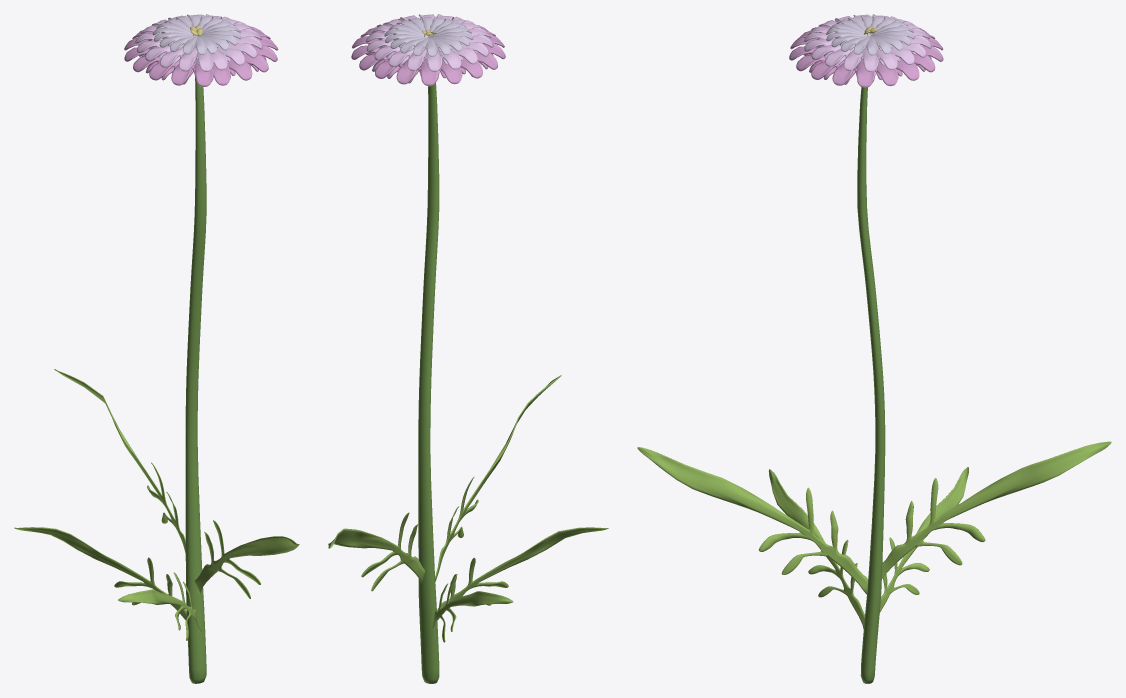
The model's file is SCABIOSA FINAL.fbx.
3 views of the same model, side by side, from view 1: azimuth 30°, elevation 25°; view 2: azimuth 150°, elevation 25°; view 3: azimuth 270°, elevation 25° (orthographic).
Visible parts, largest first — view 1: Stem, Flower 2, Flower 3, Flower 4, Leaf 1, Leaf 3, Leaf 2, Leaf 4; view 2: Stem, Flower 3, Flower 2, Flower 4, Leaf 2, Leaf 4, Leaf 1, Leaf 3; view 3: Stem, Leaf 1, Leaf 2, Flower 2, Flower 3, Flower 4, Leaf 4, Leaf 3.
Boxes of the visible parts, box(x1,y1,x2,y2) form: Stem: box(185, 77, 206, 683); Flower 2: box(124, 25, 278, 86); Flower 3: box(135, 14, 262, 71); Flower 4: box(152, 14, 241, 54); Leaf 1: box(194, 520, 299, 598); Leaf 3: box(14, 527, 186, 620); Leaf 2: box(54, 369, 185, 553); Leaf 4: box(118, 572, 201, 640); Stem: box(418, 83, 439, 683); Flower 3: box(365, 14, 493, 71); Flower 2: box(351, 16, 505, 86); Flower 4: box(384, 17, 473, 56); Leaf 2: box(328, 512, 424, 591); Leaf 4: box(437, 527, 608, 620); Leaf 1: box(435, 375, 561, 581); Leaf 3: box(432, 574, 513, 642); Stem: box(857, 87, 885, 683); Leaf 1: box(637, 447, 868, 594); Leaf 2: box(881, 441, 1111, 579); Flower 2: box(789, 21, 943, 87); Flower 3: box(803, 14, 931, 71); Flower 4: box(826, 15, 914, 55); Leaf 4: box(768, 469, 864, 631); Leaf 3: box(879, 467, 968, 612).
Size of the model in its own units: 17.85 by 54.93 by 36.08.
